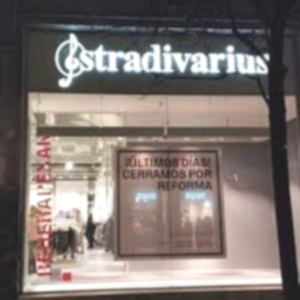stradivarius: (31, 73, 300, 98)
